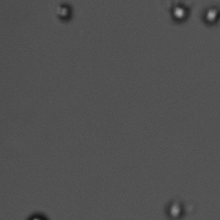Dead Cell: (54, 3, 72, 24)
Living Cell: (168, 3, 186, 28), (163, 199, 187, 217), (201, 6, 218, 24)
